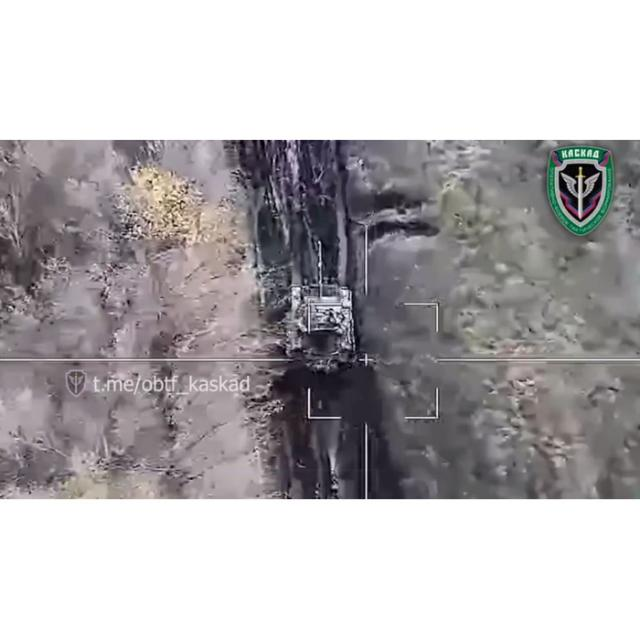tank: (288, 284, 356, 374)
